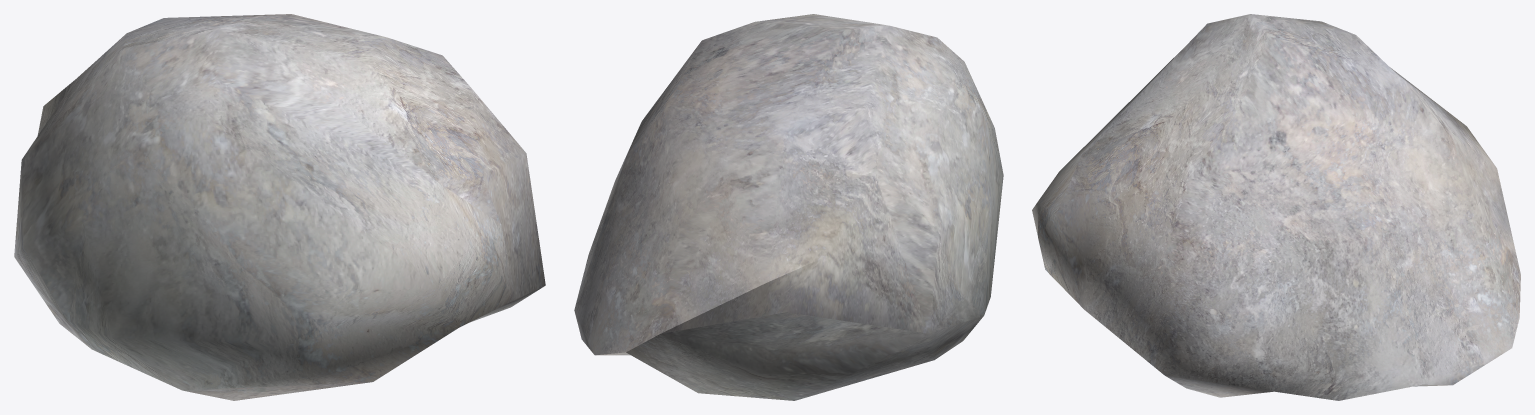
File: rock_00G_2k.fbx
3 views of the same model, side by side, from view 1: azimuth 30°, elevation 25°; view 2: azimuth 150°, elevation 25°; view 3: azimuth 270°, elevation 25° (orthographic). The views are drawn at different scales.
Parts seen in each view (by area): view 1: rock_00G_2k; view 2: rock_00G_2k; view 3: rock_00G_2k.
Boxes of the visible parts, <box> form: rock_00G_2k: <box>14,14,545,400</box>; rock_00G_2k: <box>574,14,1003,400</box>; rock_00G_2k: <box>1032,14,1520,400</box>.
Bounding box in the file's own units: 199 × 159 × 219.
